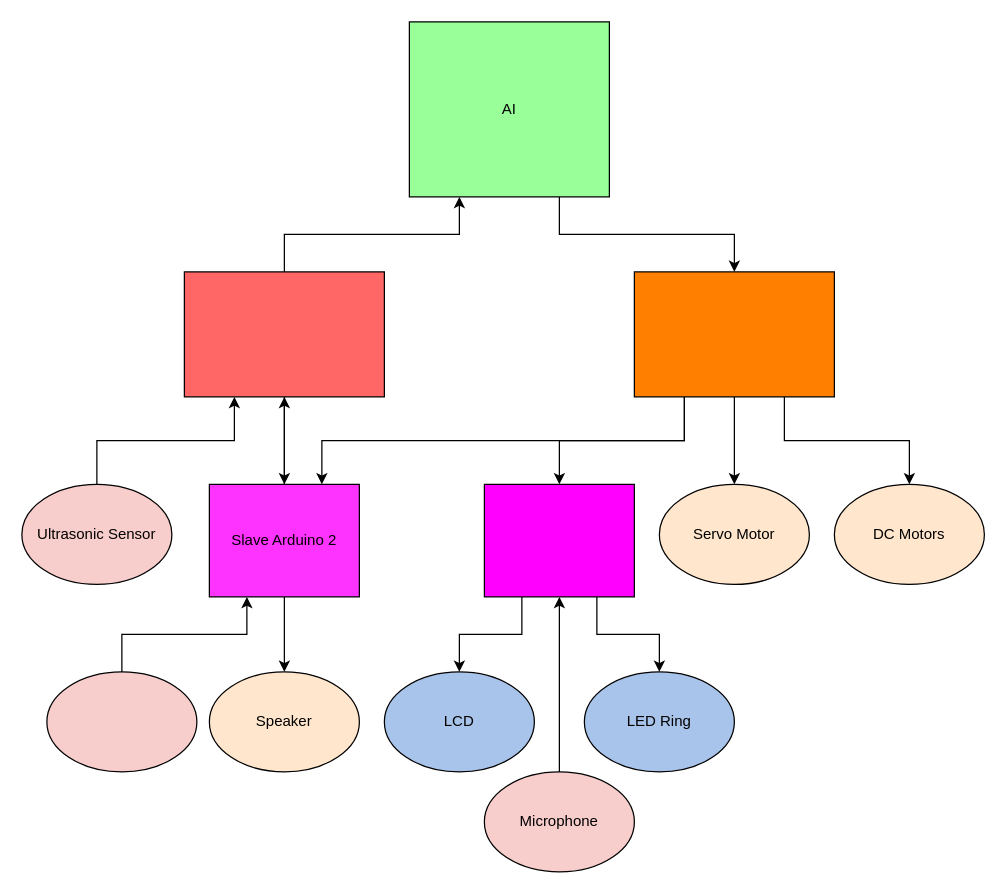
This 1006x894 diagram has some shape labels left out. The centre of each missing label's shape, as x and y in pixels:
"Control" goes at pixel 733 334.
"ExternalData" goes at pixel 283 334.
"Slave Arduino 1" goes at pixel 558 540.
"Temperature Sensor" goes at pixel 121 721.
